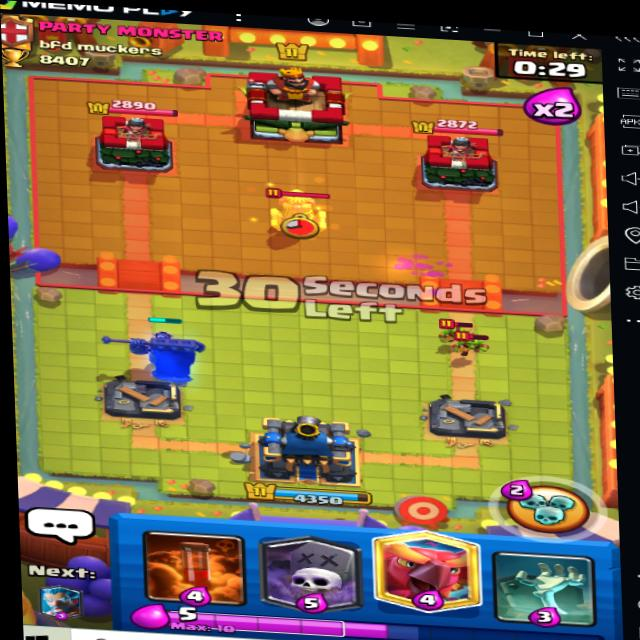goblin: (440, 315, 475, 346), (456, 334, 489, 364)
tesla: (258, 189, 338, 243)
